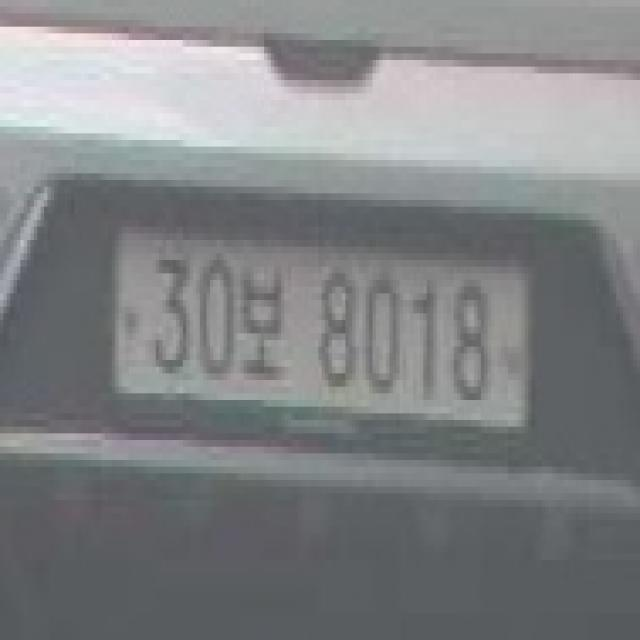0: (196, 253, 234, 387), (362, 273, 400, 400)
1: (413, 280, 444, 407)
3: (156, 253, 190, 380)
8: (318, 267, 359, 393), (450, 280, 488, 407)
bo: (237, 260, 284, 387)
license_plate: (105, 207, 538, 460)
